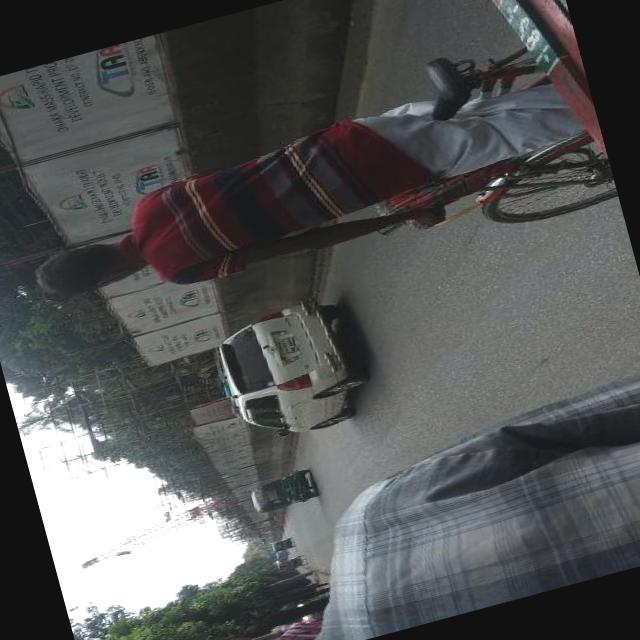car: (196, 284, 380, 453)
motorcycle: (242, 462, 322, 516), (274, 552, 308, 572), (270, 536, 296, 554)
